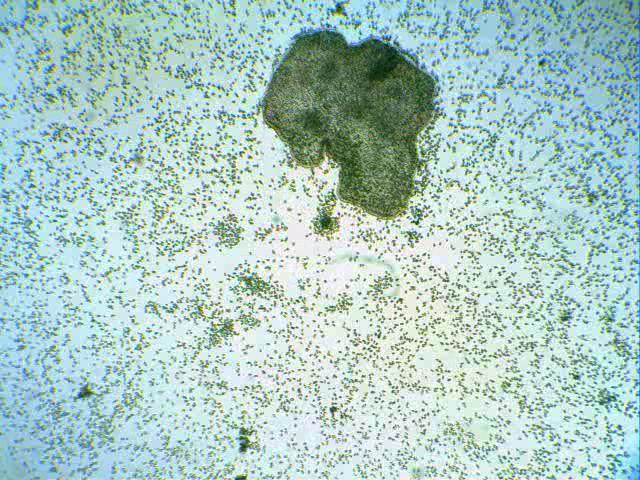Placozoan: (263, 30, 436, 220)
